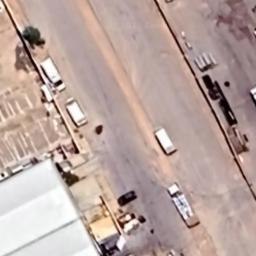others: (64, 96, 88, 128)
sedan: (117, 190, 138, 207)
truck: (167, 182, 201, 228), (38, 56, 66, 92)
unknown: (154, 128, 177, 156)
